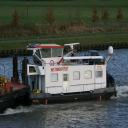tugboat: (12, 39, 119, 108)
